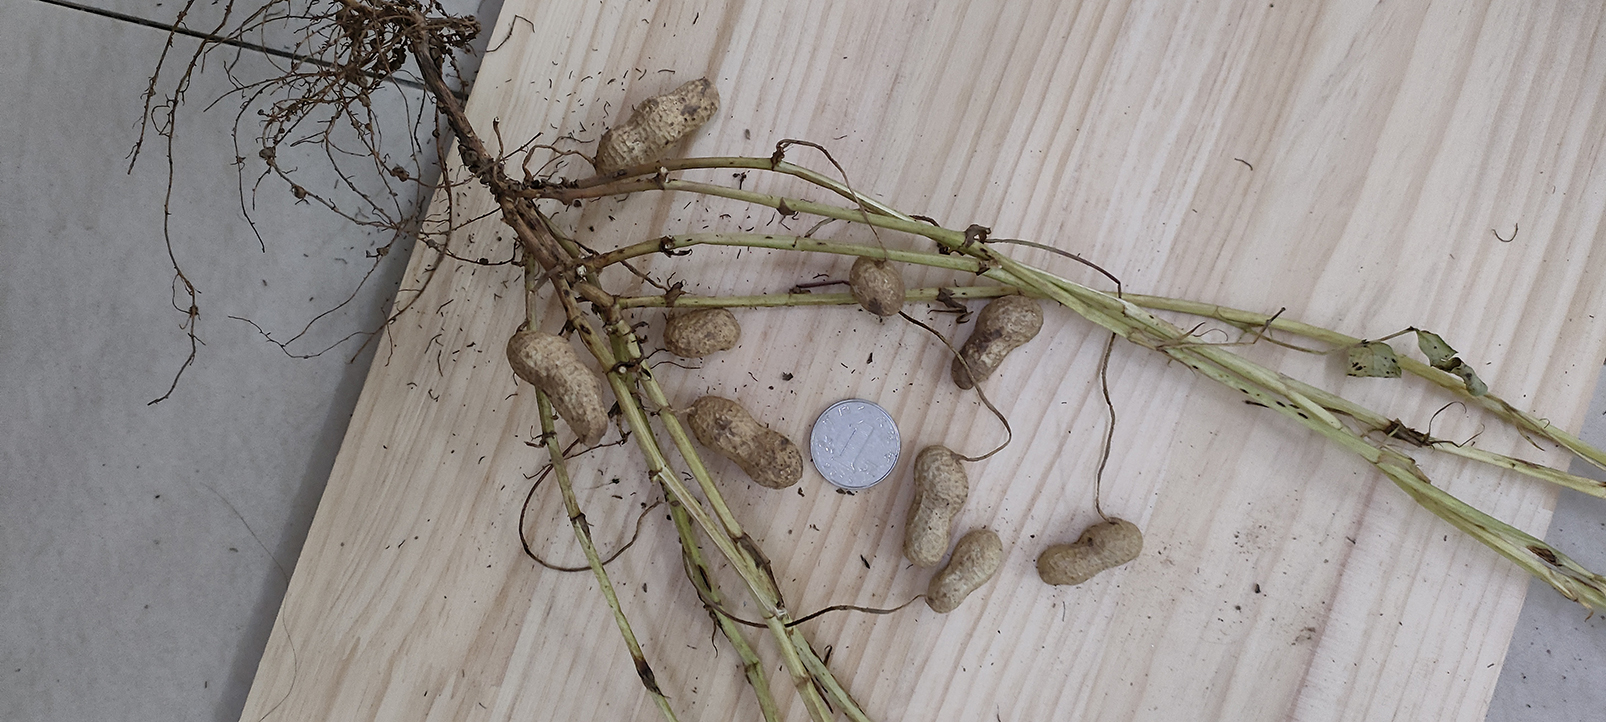h: (594, 76, 720, 178), (507, 329, 610, 448), (688, 395, 804, 489), (904, 447, 970, 567), (1036, 520, 1143, 586), (926, 530, 1003, 614), (663, 308, 739, 358), (850, 255, 906, 314)
l: (950, 295, 1045, 390)
